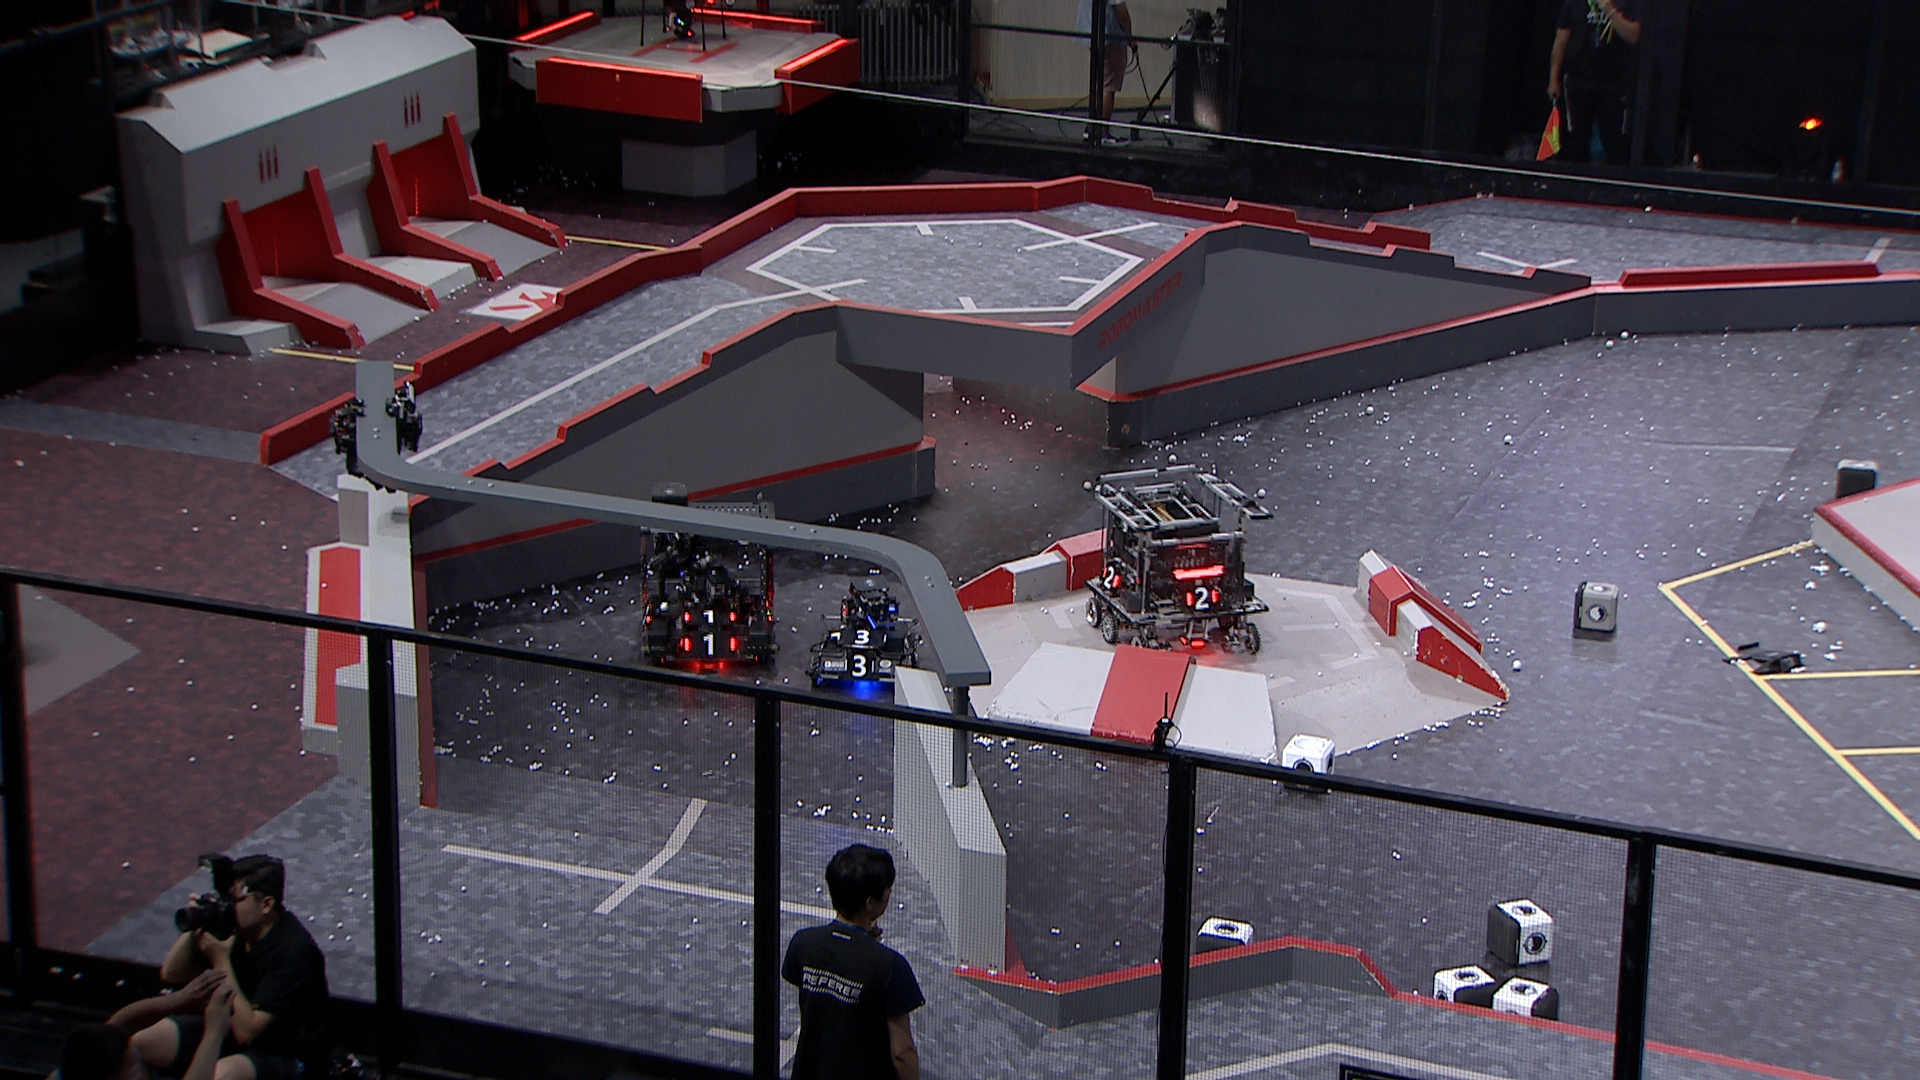armor: (678, 632, 738, 659), (679, 607, 737, 626), (1179, 583, 1220, 611), (836, 626, 889, 646), (840, 651, 877, 679), (1098, 564, 1121, 591), (636, 603, 651, 628)
car: (1081, 465, 1271, 655), (629, 495, 782, 669), (806, 579, 923, 694)
watcher: (332, 381, 419, 495)
